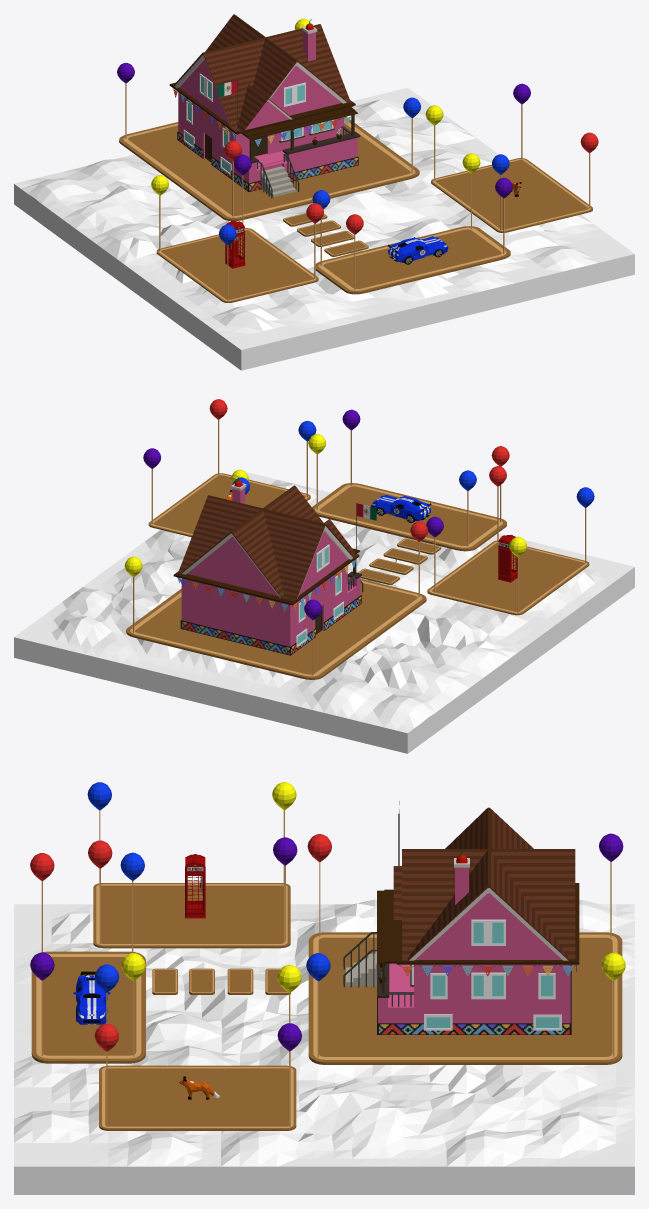
3 views of the same model, one above another, from view 1: azimuth 30°, elevation 25°; view 2: azimuth 150°, elevation 25°; view 3: azimuth 270°, elevation 25° (orthographic). The views are drawn at different scales.
Parts seen in each view (by area): view 1: Cube.013, Cube.1005, VEHICLES_RACING_CAR, OBJRANDOM_PHONEBOOTH; view 2: Cube.013, Cube.1005, VEHICLES_RACING_CAR, OBJRANDOM_PHONEBOOTH; view 3: Cube.013, Cube.1005, VEHICLES_RACING_CAR, OBJRANDOM_PHONEBOOTH.
Boxes of the visible parts, left/top/right/bottom form: Cube.013: left=14, top=18, right=634, bottom=370; Cube.1005: left=169, top=14, right=360, bottom=198; VEHICLES_RACING_CAR: left=387, top=236, right=448, bottom=264; OBJRANDOM_PHONEBOOTH: left=225, top=221, right=245, bottom=268; Cube.013: left=14, top=399, right=634, bottom=753; Cube.1005: left=173, top=476, right=376, bottom=655; VEHICLES_RACING_CAR: left=371, top=495, right=431, bottom=522; OBJRANDOM_PHONEBOOTH: left=498, top=535, right=517, bottom=582; Cube.013: left=14, top=782, right=634, bottom=1194; Cube.1005: left=343, top=801, right=579, bottom=1034; VEHICLES_RACING_CAR: left=73, top=971, right=110, bottom=1024; OBJRANDOM_PHONEBOOTH: left=185, top=854, right=205, bottom=918.
Size of the model in its own units: 4000 by 1774 by 4000.
80 materials, 3 textured.
